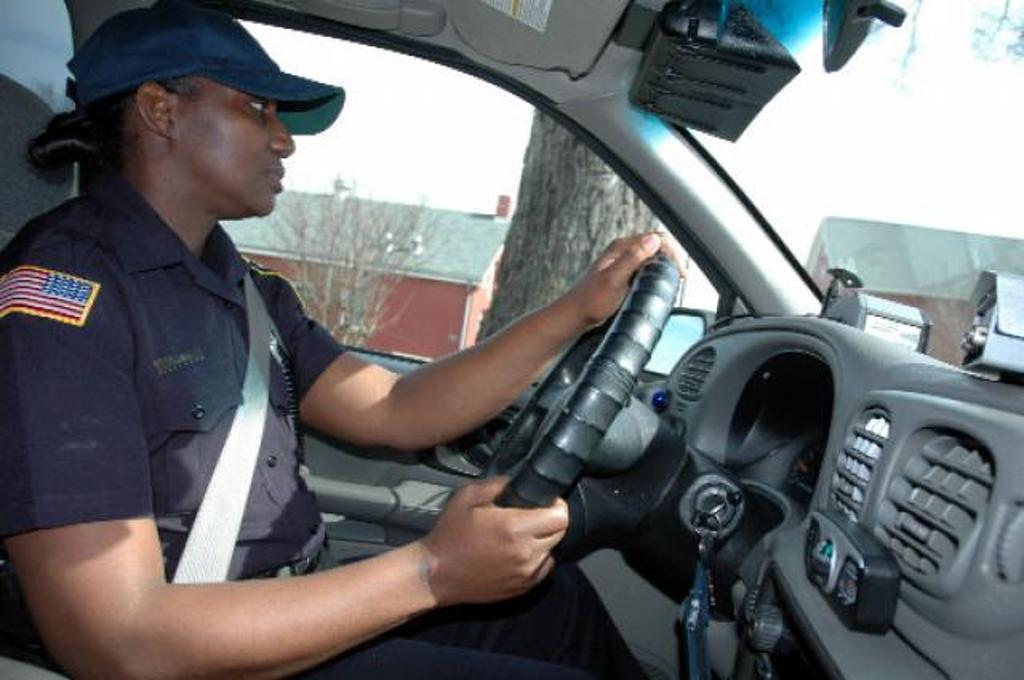face: (187, 49, 297, 219)
